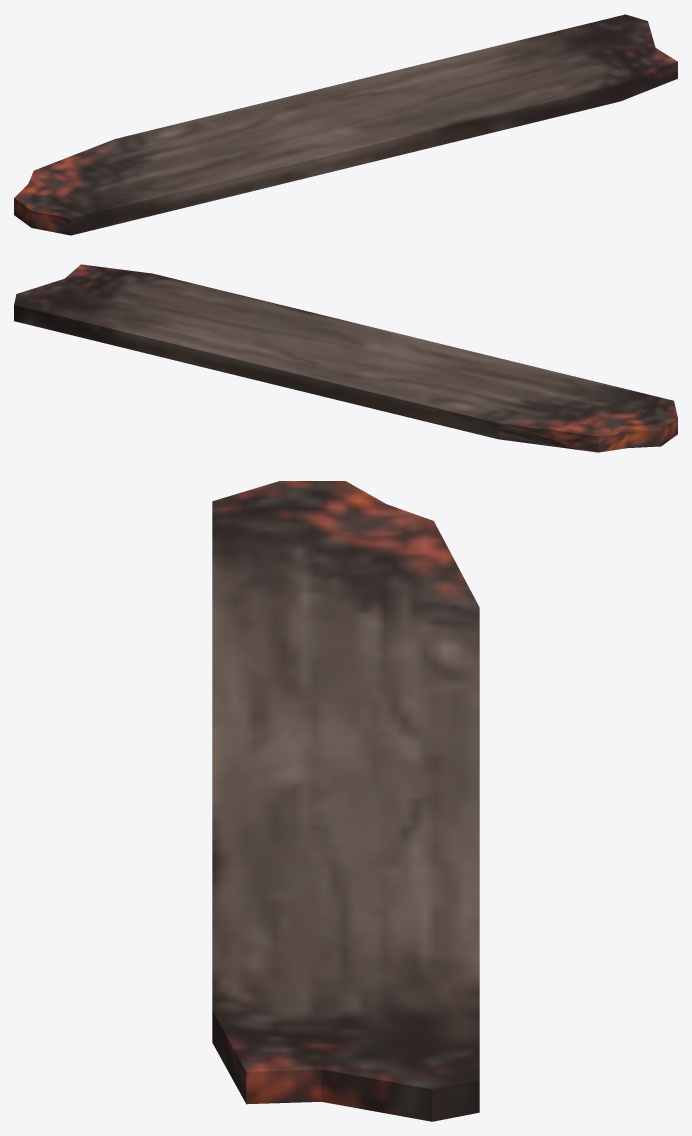
The model's file is sc_heishi_muban_001_b.FBX.
3 renders of one model, top to bottom at view 1: azimuth 30°, elevation 25°; view 2: azimuth 150°, elevation 25°; view 3: azimuth 270°, elevation 25°, orthographic. The views are drawn at different scales.
Visible parts, largest first — view 1: sc_heishi_muban_001_b; view 2: sc_heishi_muban_001_b; view 3: sc_heishi_muban_001_b.
Boxes of the visible parts, bbox=[...] form: sc_heishi_muban_001_b: bbox=[14, 14, 677, 235]; sc_heishi_muban_001_b: bbox=[14, 264, 677, 452]; sc_heishi_muban_001_b: bbox=[212, 481, 479, 1121].
Size of the model in its own units: 1.29 by 0.032 by 0.2395.
Materials: 1 (1 with a texture image).
